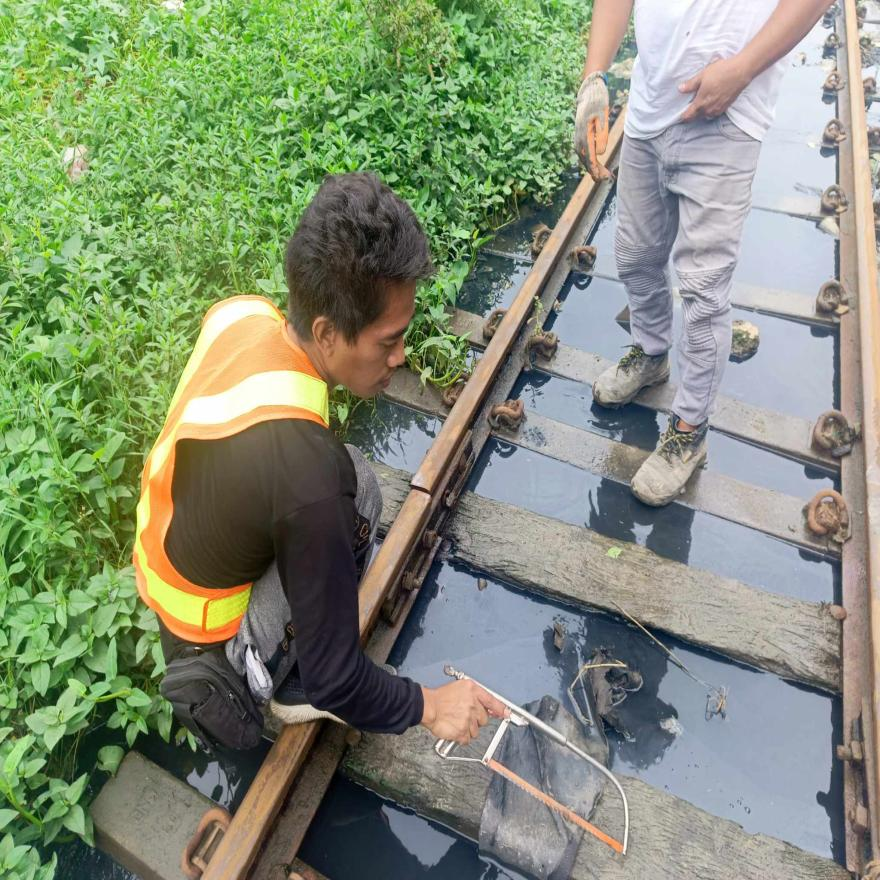railway-gap: (381, 448, 459, 529)
